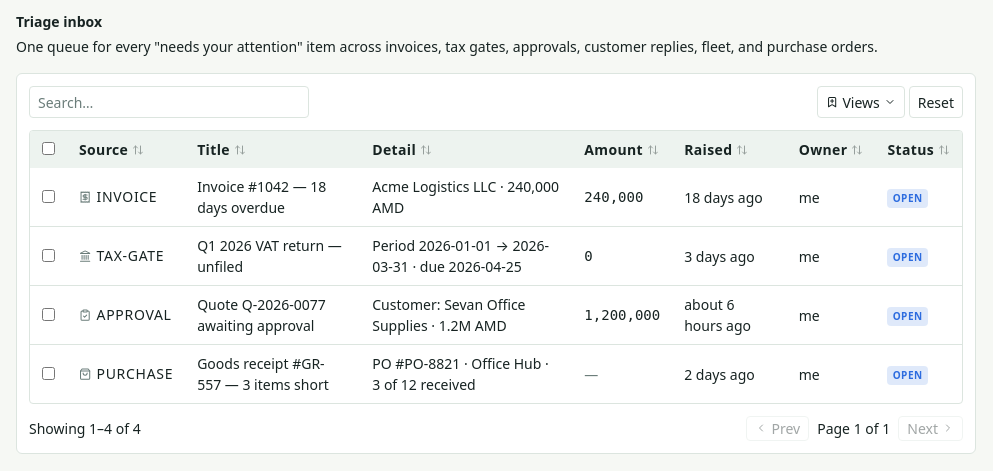
Test: triage inbox route › applies the Overdue view when picked from SavedViews
This screenshot has width=993, height=471.
// Open the SavedViews menu
Click the button with test id "saved-views-trigger" at (861, 102), box [817,86,905,118]
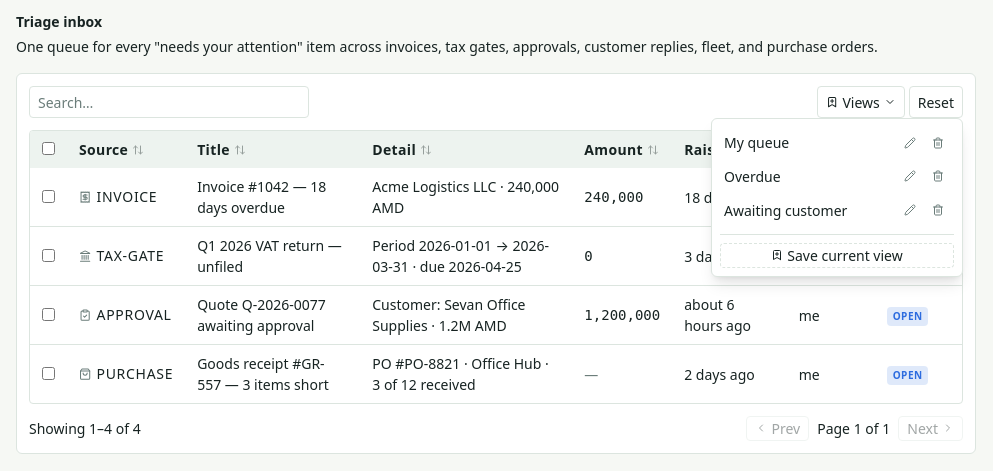
// Click the Overdue row — find the row whose name is "Overdue"
Click the option "Overdue" at (809, 176), box [724,166,894,187]
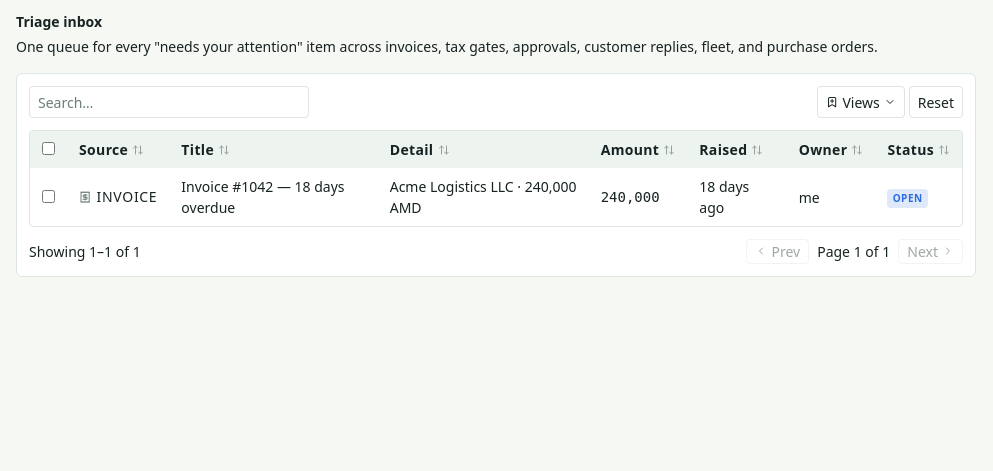
Expected: the row with test id "data-table-row-inv-1042-overdue" is shown, [30,168,962,226]
Now the row with test id "data-table-row-tg-2026-q1-vat" is gone
